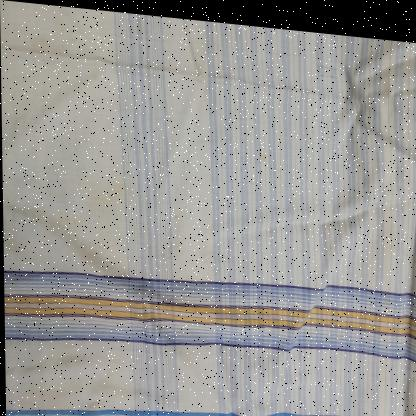spot: (86, 177, 131, 211), (61, 215, 80, 224), (173, 208, 180, 219), (259, 147, 267, 156), (410, 247, 416, 258), (74, 86, 81, 95), (401, 240, 408, 249), (383, 293, 389, 303), (92, 70, 98, 78), (53, 18, 61, 22)
